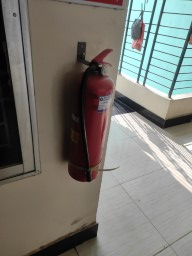fire_extinguisher: (31, 97, 137, 170)
